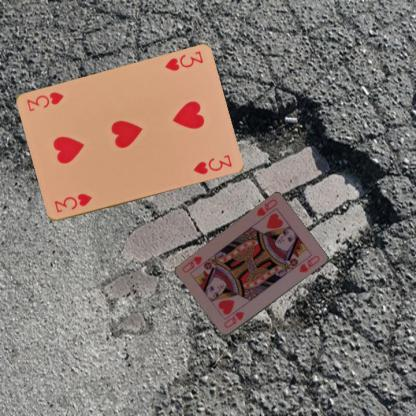3h: (162, 48, 204, 73), (51, 191, 93, 214)
Qh: (254, 196, 278, 218), (221, 309, 246, 330)
